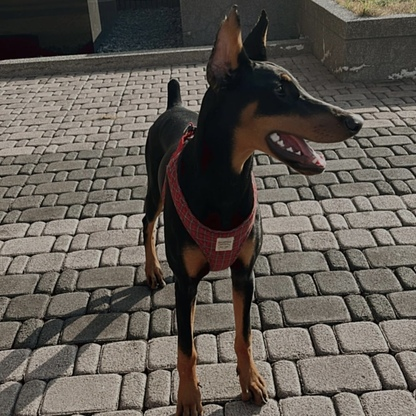doberman: (136, 11, 365, 416)
